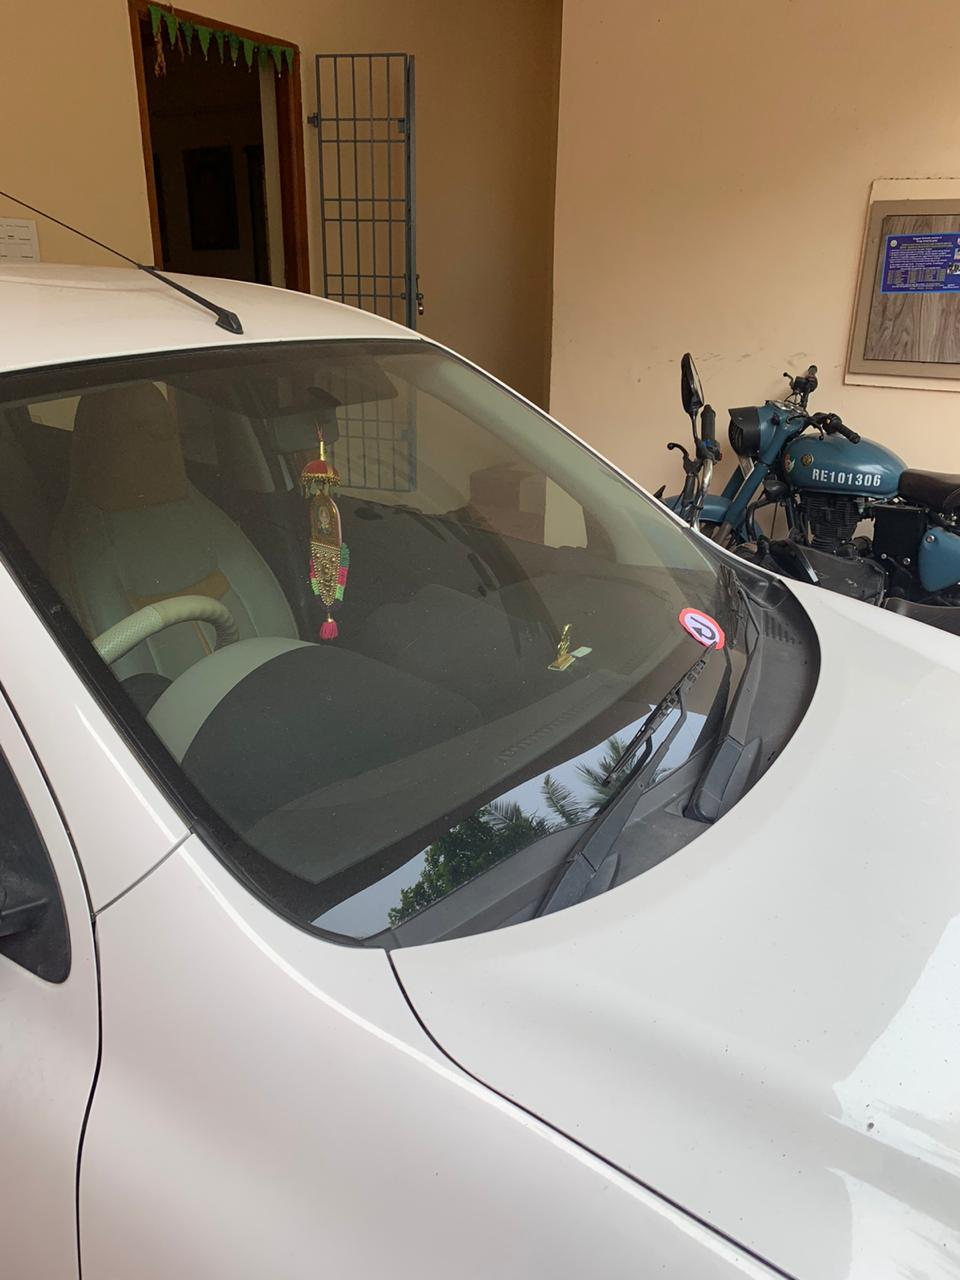U-TURN: (664, 591, 751, 664)
